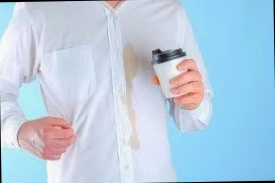coffee: (119, 43, 141, 151)
